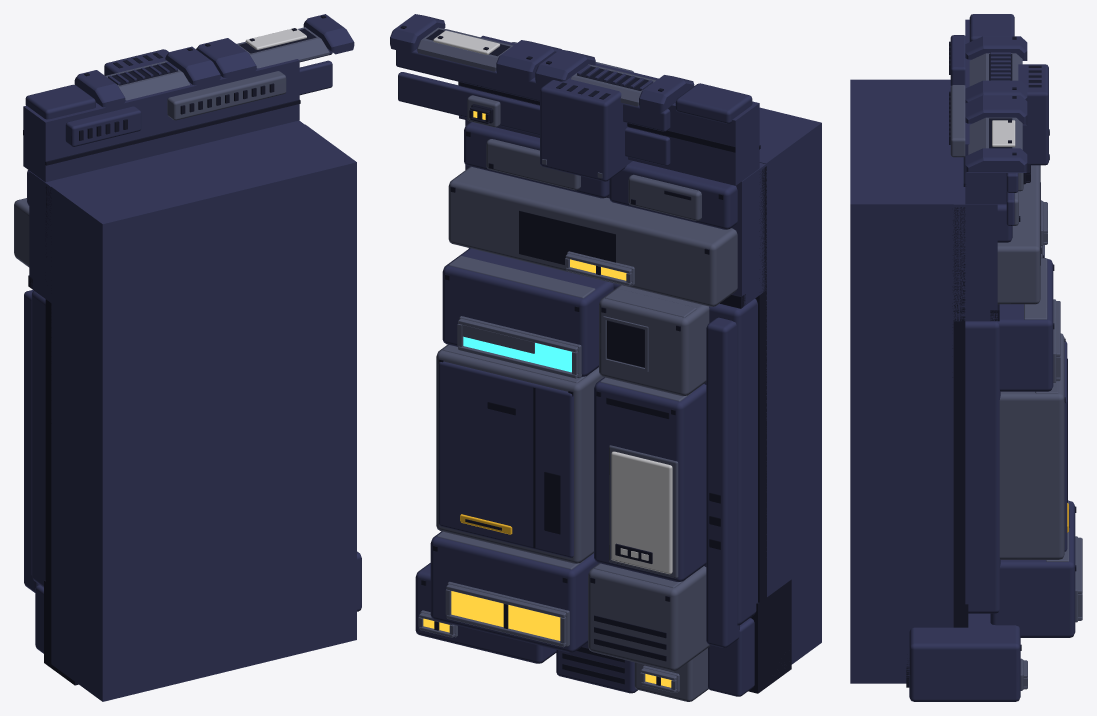
The model's file is hull.bay.navy.navy.mixed.mixed.w2.000.s5.k-2.35.glb.
3 renders of one model, left to right at view 1: azimuth 30°, elevation 25°; view 2: azimuth 150°, elevation 25°; view 3: azimuth 270°, elevation 25°, orthographic. The views are drawn at different scales.
Parts seen in each view (by area): view 1: hull.bay.navy.navy.mixed.mixed.w2.000.s5.k-2.35; view 2: hull.bay.navy.navy.mixed.mixed.w2.000.s5.k-2.35; view 3: hull.bay.navy.navy.mixed.mixed.w2.000.s5.k-2.35.
Part boxes in pixels (box(x1,y1,x2,y2)): hull.bay.navy.navy.mixed.mixed.w2.000.s5.k-2.35: box(14, 14, 361, 701); hull.bay.navy.navy.mixed.mixed.w2.000.s5.k-2.35: box(390, 14, 821, 701); hull.bay.navy.navy.mixed.mixed.w2.000.s5.k-2.35: box(850, 14, 1082, 701).
Bounding box in the file's own units: 2.44 × 4.28 × 1.58.
